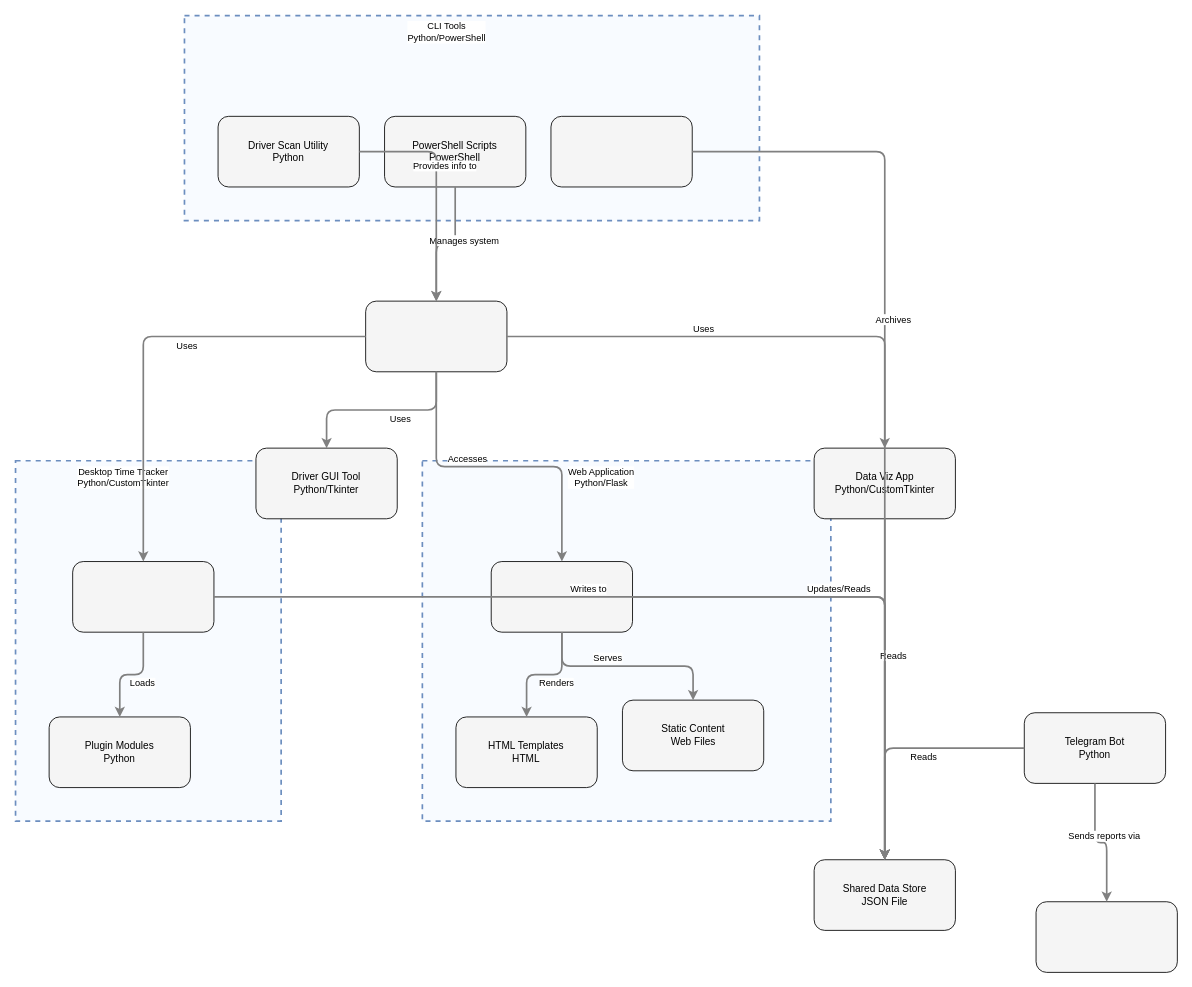
This 1192x987 diagram has some shape labels left out. The centre of each missing label's shape, as x and y in pixels:
Backup Utility Python: (x=621, y=151)
Desktop App Core Python/CustomTkinter: (x=143, y=596)
Telegram API Telegram: (x=1106, y=936)
User External Actor: (x=436, y=336)
Web Server Python/Flask: (x=561, y=596)
